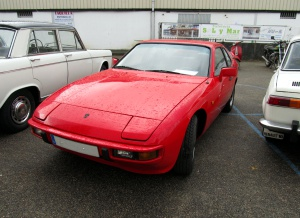car: (29, 39, 238, 178), (1, 22, 113, 132), (262, 35, 300, 141)
